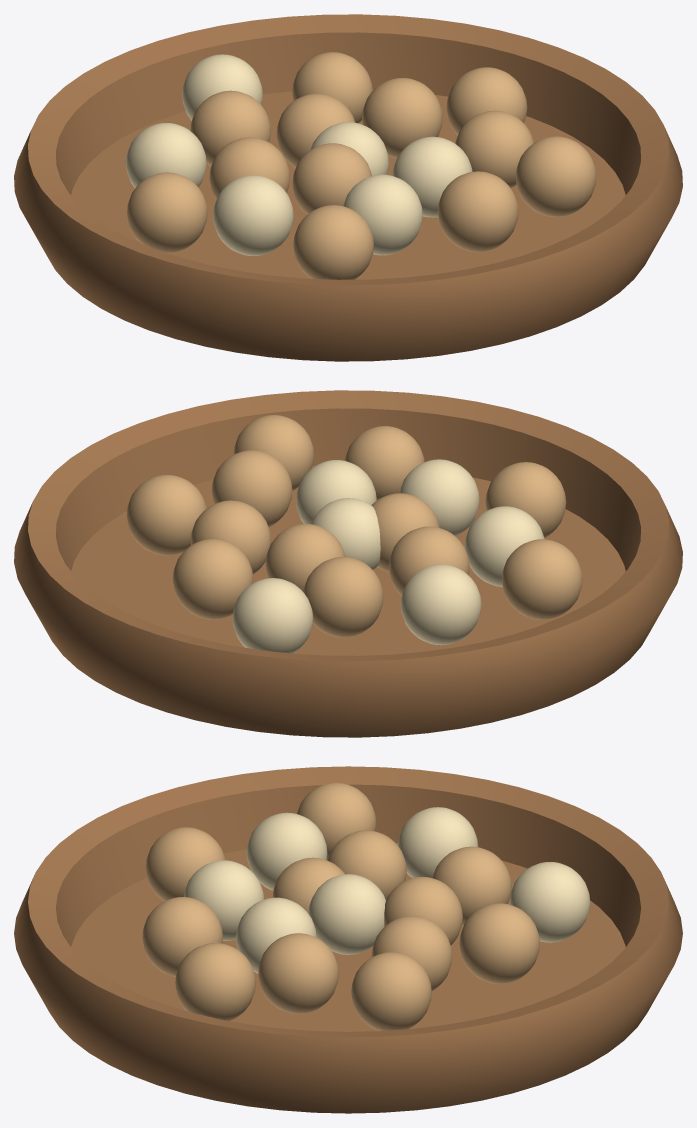
Rendered from desert-caravanserai-and-bazaar-dried-fruit-tray-65f9ac72__30478.glb.
3 renders of one model, top to bottom at view 1: azimuth 30°, elevation 25°; view 2: azimuth 150°, elevation 25°; view 3: azimuth 270°, elevation 25°, orthographic.
Parts seen in each view (by area): view 1: dried-fruit-tray; view 2: dried-fruit-tray; view 3: dried-fruit-tray.
Boxes of the visible parts, left/top/right/bottom form: dried-fruit-tray: left=14, top=14, right=682, bottom=361; dried-fruit-tray: left=14, top=390, right=682, bottom=737; dried-fruit-tray: left=14, top=766, right=682, bottom=1113.
Size of the model in its own units: 0.48 by 0.084 by 0.48.
